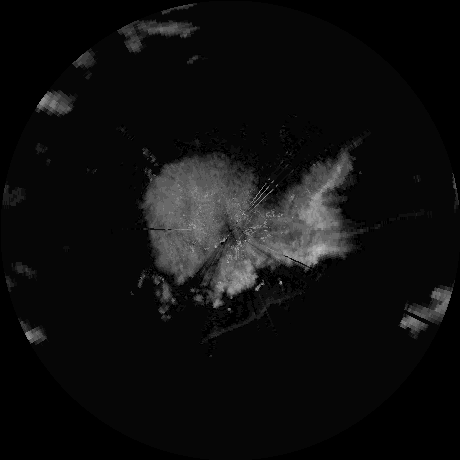frontgust: (204, 297, 291, 339)
